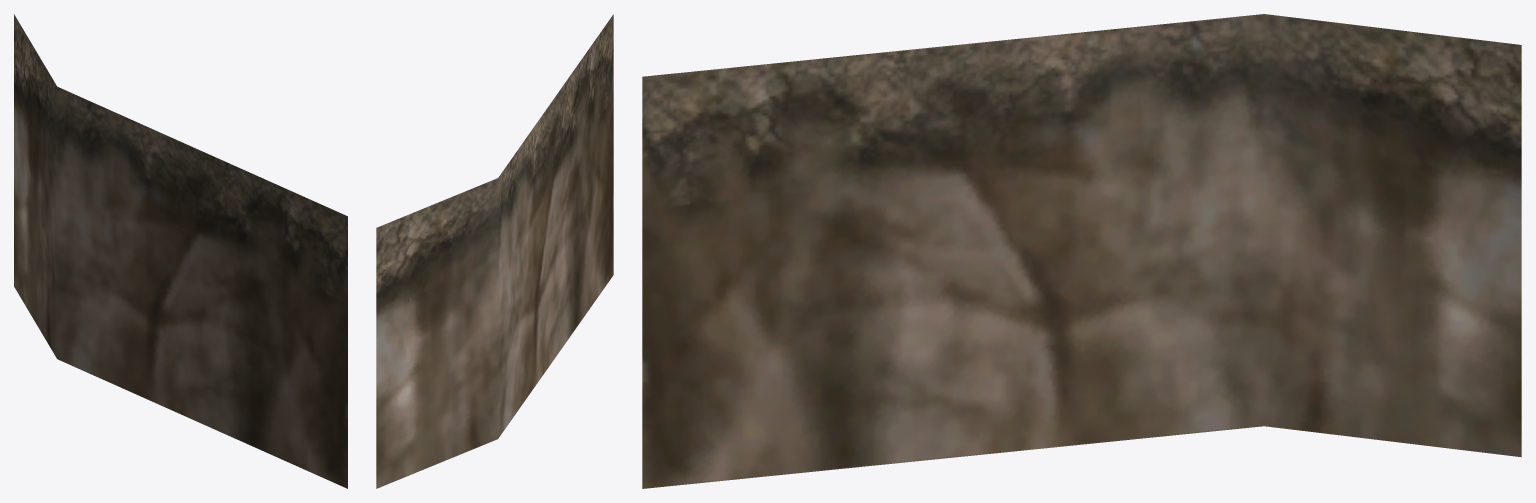
The model's file is OVERHILL_A_01_LINE42.fbx.
The picture shows the model from 3 angles, left to right: view 1: azimuth 30°, elevation 25°; view 2: azimuth 150°, elevation 25°; view 3: azimuth 270°, elevation 25°; orthographic projection. The views are drawn at different scales.
Visible parts, largest first — view 1: OVERHILL_A_01_LINE42; view 2: OVERHILL_A_01_LINE42; view 3: OVERHILL_A_01_LINE42.
Part boxes in pixels (x1,y1,x2,y2): OVERHILL_A_01_LINE42: (14,14,347,488); OVERHILL_A_01_LINE42: (376,14,613,488); OVERHILL_A_01_LINE42: (642,14,1521,488).
Size of the model in its own units: 2431 by 7450 by 14400.
Materials: 1 (1 with a texture image).
